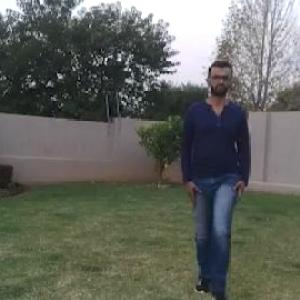follow: (183, 78, 246, 273)
